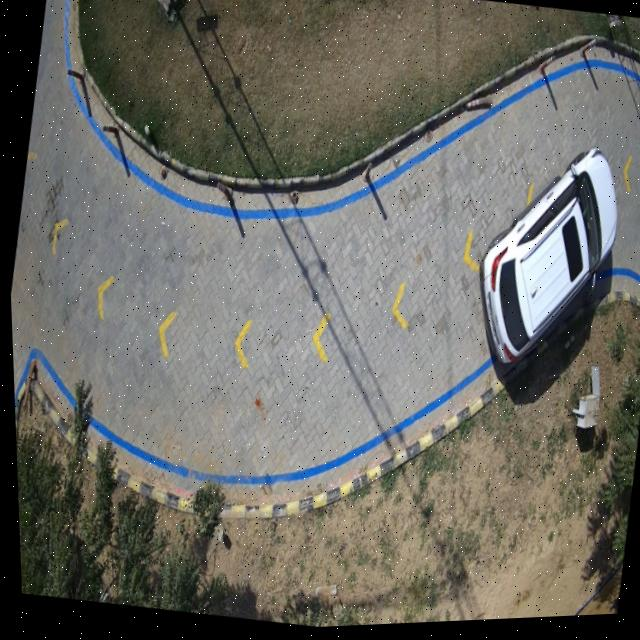car: (478, 153, 616, 369)
